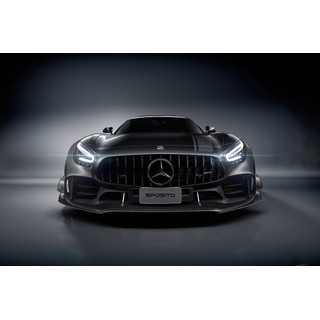car: (57, 115, 267, 217)
